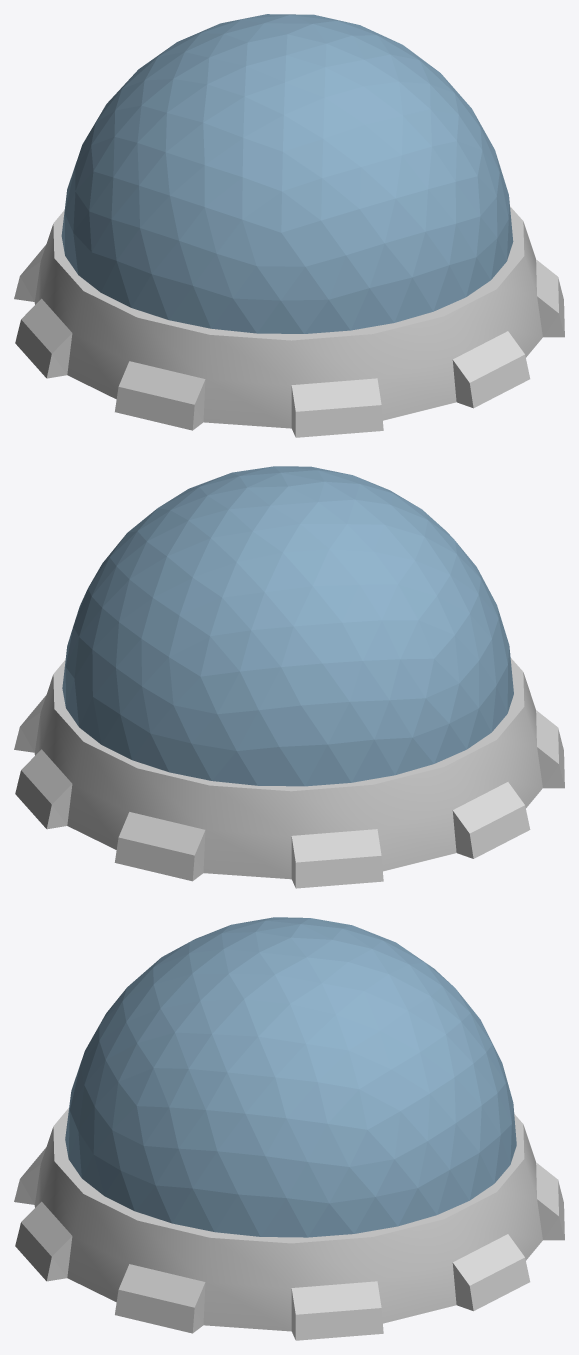
The picture shows the model from 3 angles, top to bottom: view 1: azimuth 30°, elevation 25°; view 2: azimuth 150°, elevation 25°; view 3: azimuth 270°, elevation 25°; orthographic projection.
Parts seen in each view (by area): view 1: GeoSphere01, Cylinder01; view 2: GeoSphere01, Cylinder01; view 3: GeoSphere01, Cylinder01.
Part boxes in pixels (x1=…): GeoSphere01: x1=61, y1=14, x2=513, y2=333; Cylinder01: x1=14, y1=206, x2=564, y2=437; GeoSphere01: x1=62, y1=466, x2=513, y2=786; Cylinder01: x1=14, y1=658, x2=564, y2=888; GeoSphere01: x1=65, y1=917, x2=516, y2=1237; Cylinder01: x1=14, y1=1108, x2=564, y2=1340.
Size of the model in its own units: 21.37 by 12.03 by 21.09.
